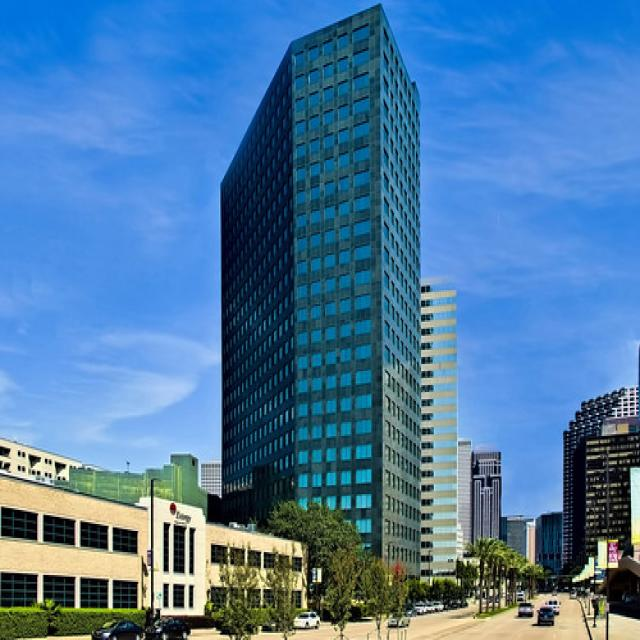Normal_building: (213, 3, 424, 616)
